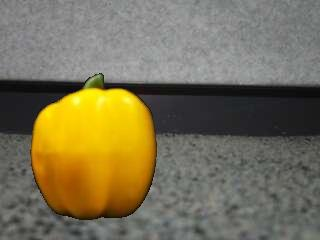Capsicum: (31, 72, 160, 221)
